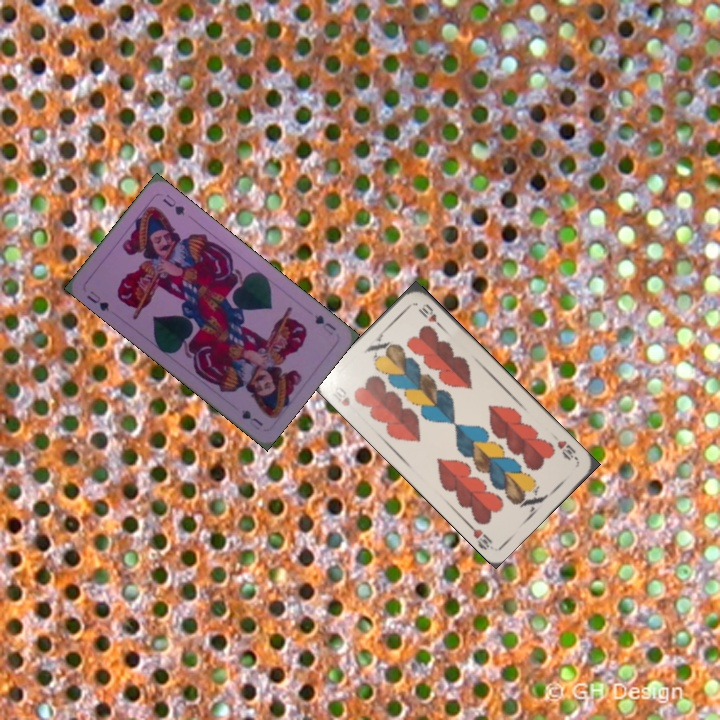GU: (82, 286, 112, 314), (310, 311, 339, 338)
H10: (553, 436, 581, 463), (329, 382, 353, 409)
